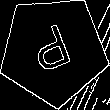P_S: (28, 20, 80, 81)
